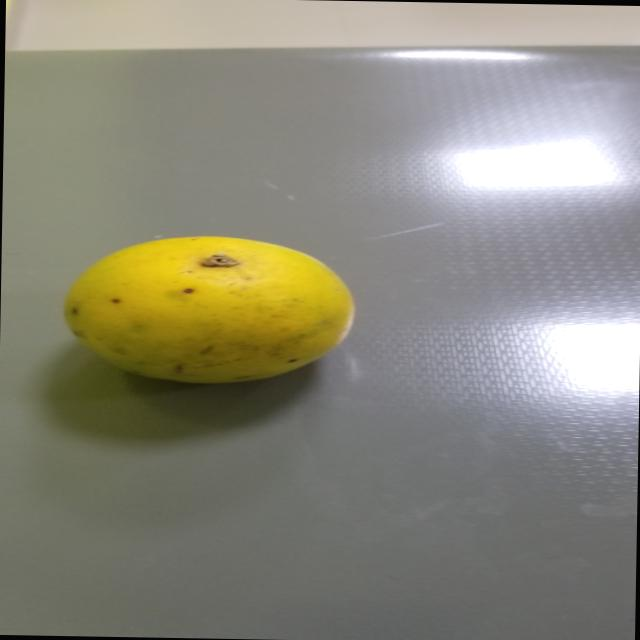Ripe orange: (44, 232, 367, 386)
